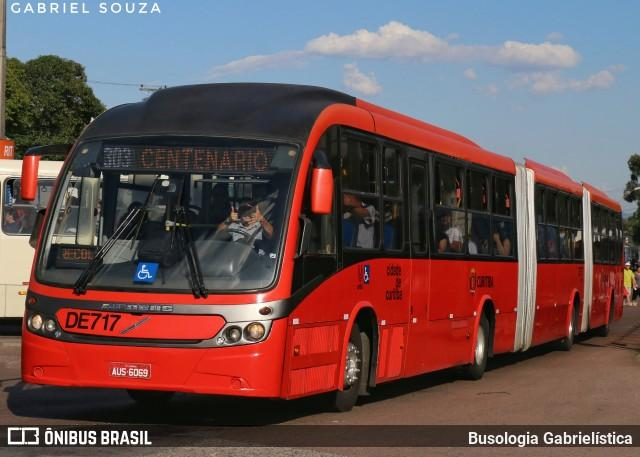CENTENARIO: (137, 144, 274, 173)
